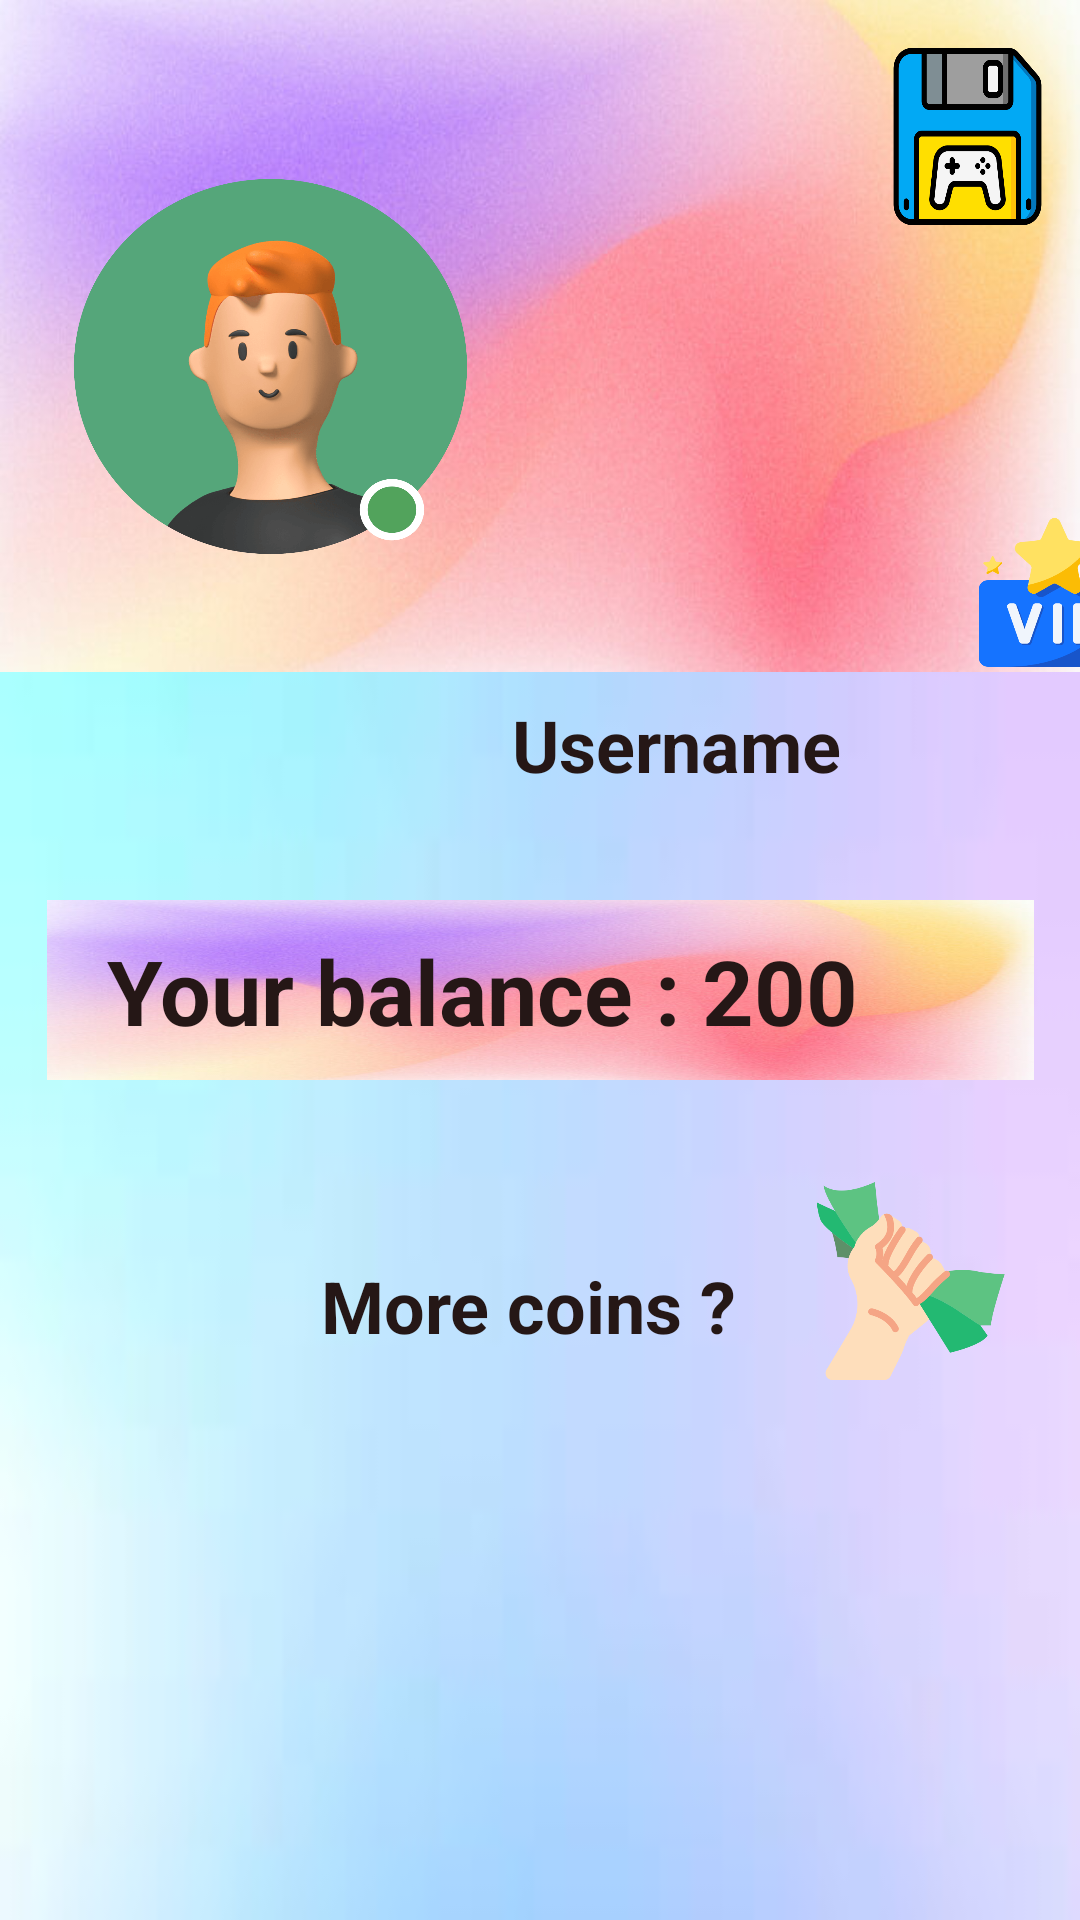

Screen size 1080 x 1920. Icon name, then its center in pixels as point (x, y):
betting: point (911, 1281)
save: point (967, 136)
